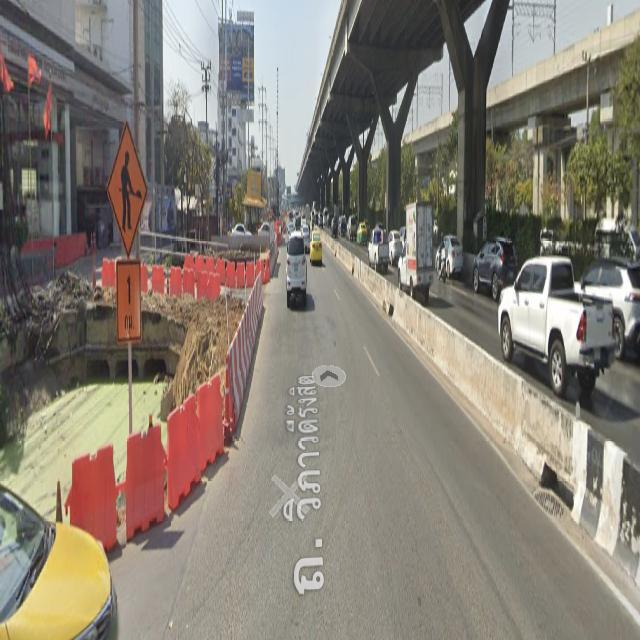fallen_object: (117, 347, 256, 512), (42, 425, 178, 560), (83, 247, 266, 336)
